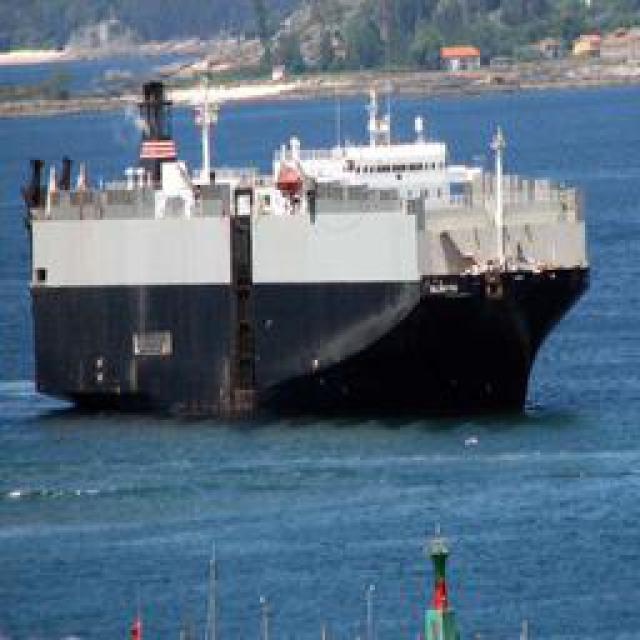Ship: (14, 85, 594, 428)
